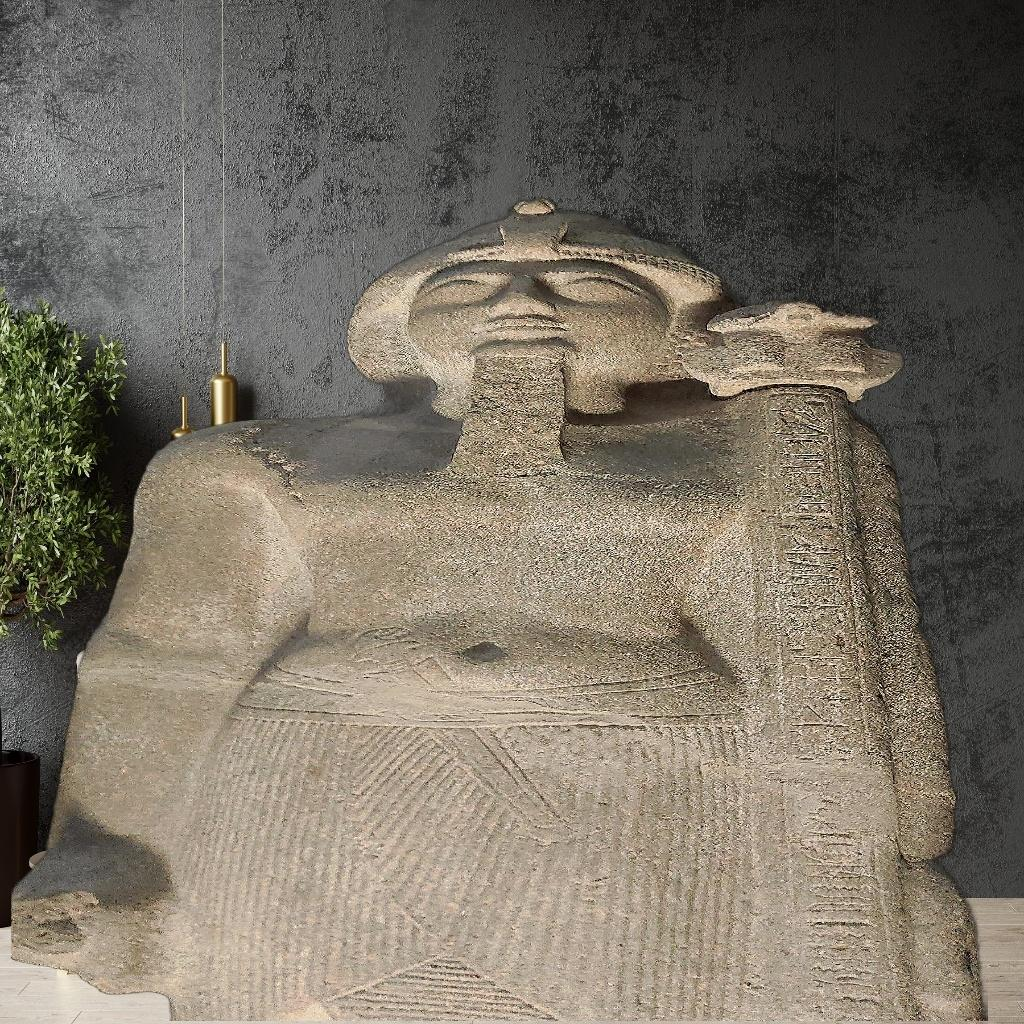Statue of Ramesses III as standard Bearer: (12, 196, 988, 1021)
